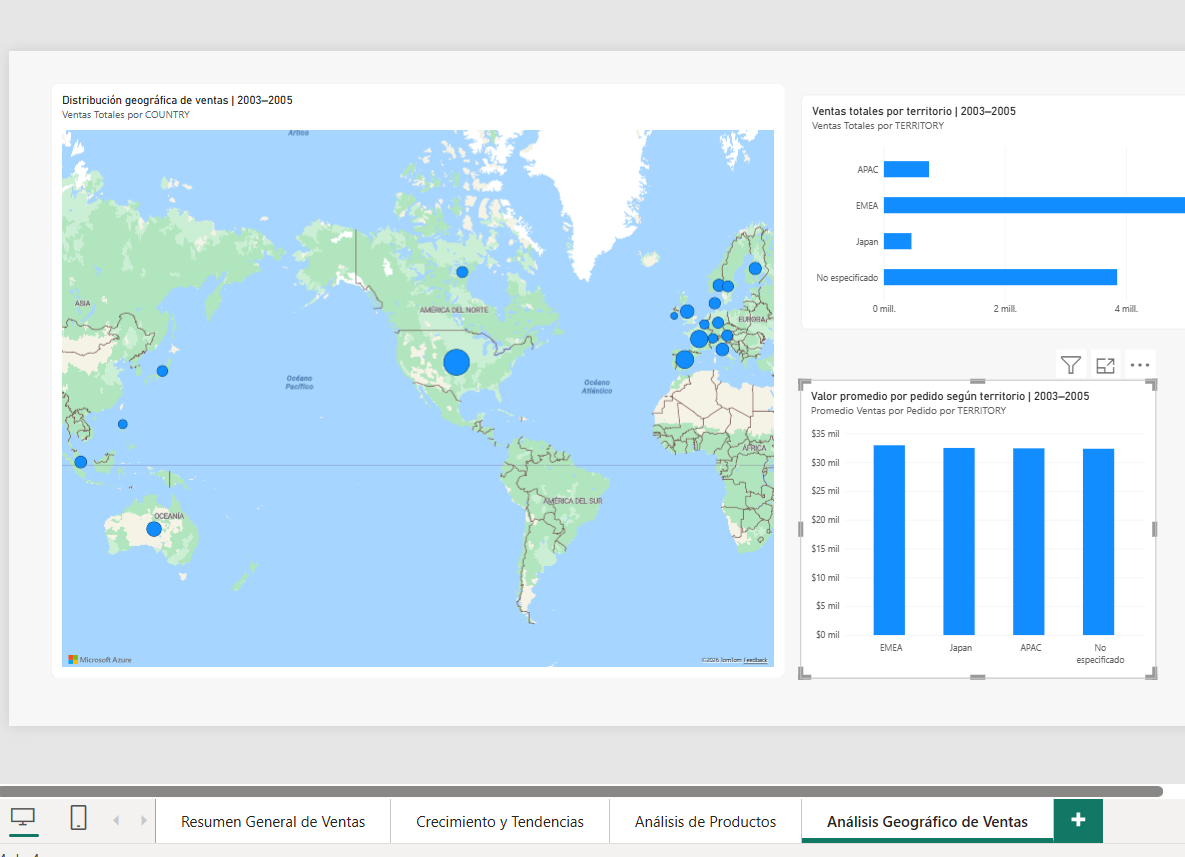

What the dashboard file says about the page in this screenshot:
{"tool":"powerbi","page":{"name":"Análisis Geográfico de Ventas","canvas":[1920,1080],"ordinal":3},"visuals":[{"type":"clusteredBarChart","title":"Ventas totales por territorio | 2003–2005","fields":{"Category":["sales_data_sample.TERRITORY"],"Y":["sales_data_sample.Ventas Totales"]},"box":[1267.5,70,652.5,375],"z":0},{"type":"azureMap","title":"Distribución geográfica de ventas | 2003–2005","fields":{"Category":["sales_data_sample.COUNTRY"],"Size":["sales_data_sample.Ventas Totales"]},"box":[67.5,52.5,1172.5,950],"z":1},{"type":"clusteredColumnChart","title":"Valor promedio por pedido según territorio | 2003–2005","fields":{"Category":["sales_data_sample.TERRITORY"],"Y":["sales_data_sample.Promedio Ventas por Pedido"]},"box":[1266.7,526.7,570,476.7],"z":2}]}

Visuals, with their boxes on the page's 1920x1080 design canvas (x1, y1, x2, y2). These are canvas units, not pixel positions in the 1185x857 screenshot, which may show the page scaled, cropped or inside an application window:
"Ventas totales por territorio | 2003–2005" clusteredBarChart: bbox=[1268, 70, 1920, 445]
"Distribución geográfica de ventas | 2003–2005" azureMap: bbox=[68, 52, 1240, 1002]
"Valor promedio por pedido según territorio | 2003–2005" clusteredColumnChart: bbox=[1267, 527, 1837, 1003]
